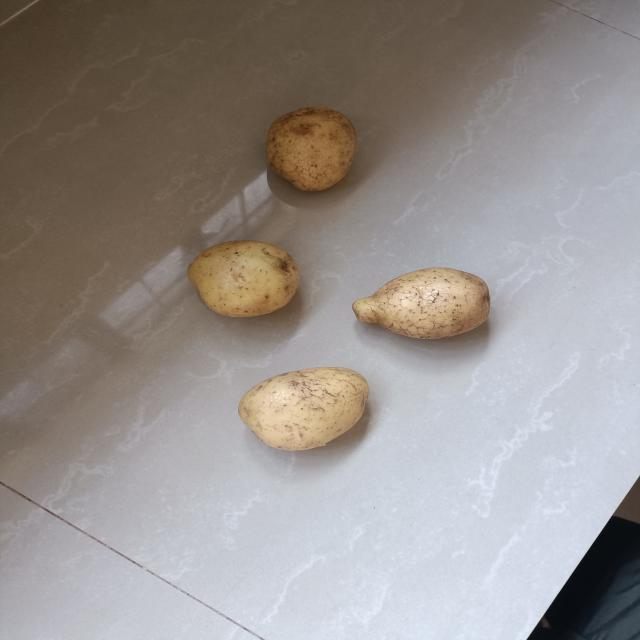potato: (232, 363, 376, 458), (349, 261, 498, 349), (181, 238, 303, 321), (261, 104, 360, 196)
